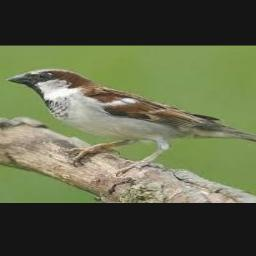Sparrow: (7, 68, 256, 175)
